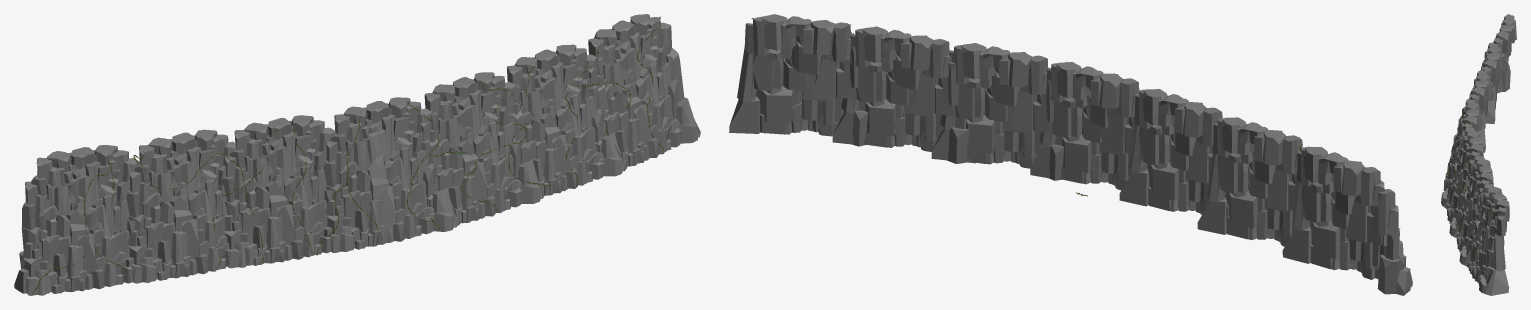
File: Montanha com vinhas.fbx
3 renders of one model, left to right at view 1: azimuth 30°, elevation 25°; view 2: azimuth 150°, elevation 25°; view 3: azimuth 270°, elevation 25°, orthographic. The views are drawn at different scales.
Visible parts, largest first — view 1: Cliff_07.006; view 2: Cliff_07.006; view 3: Cliff_07.006.
Boxes of the visible parts, <box> form: Cliff_07.006: <box>14,14,700,295</box>; Cliff_07.006: <box>729,14,1412,295</box>; Cliff_07.006: <box>1441,14,1516,295</box>.
Bounding box in the file's own units: 28826 × 4997 × 4348.
